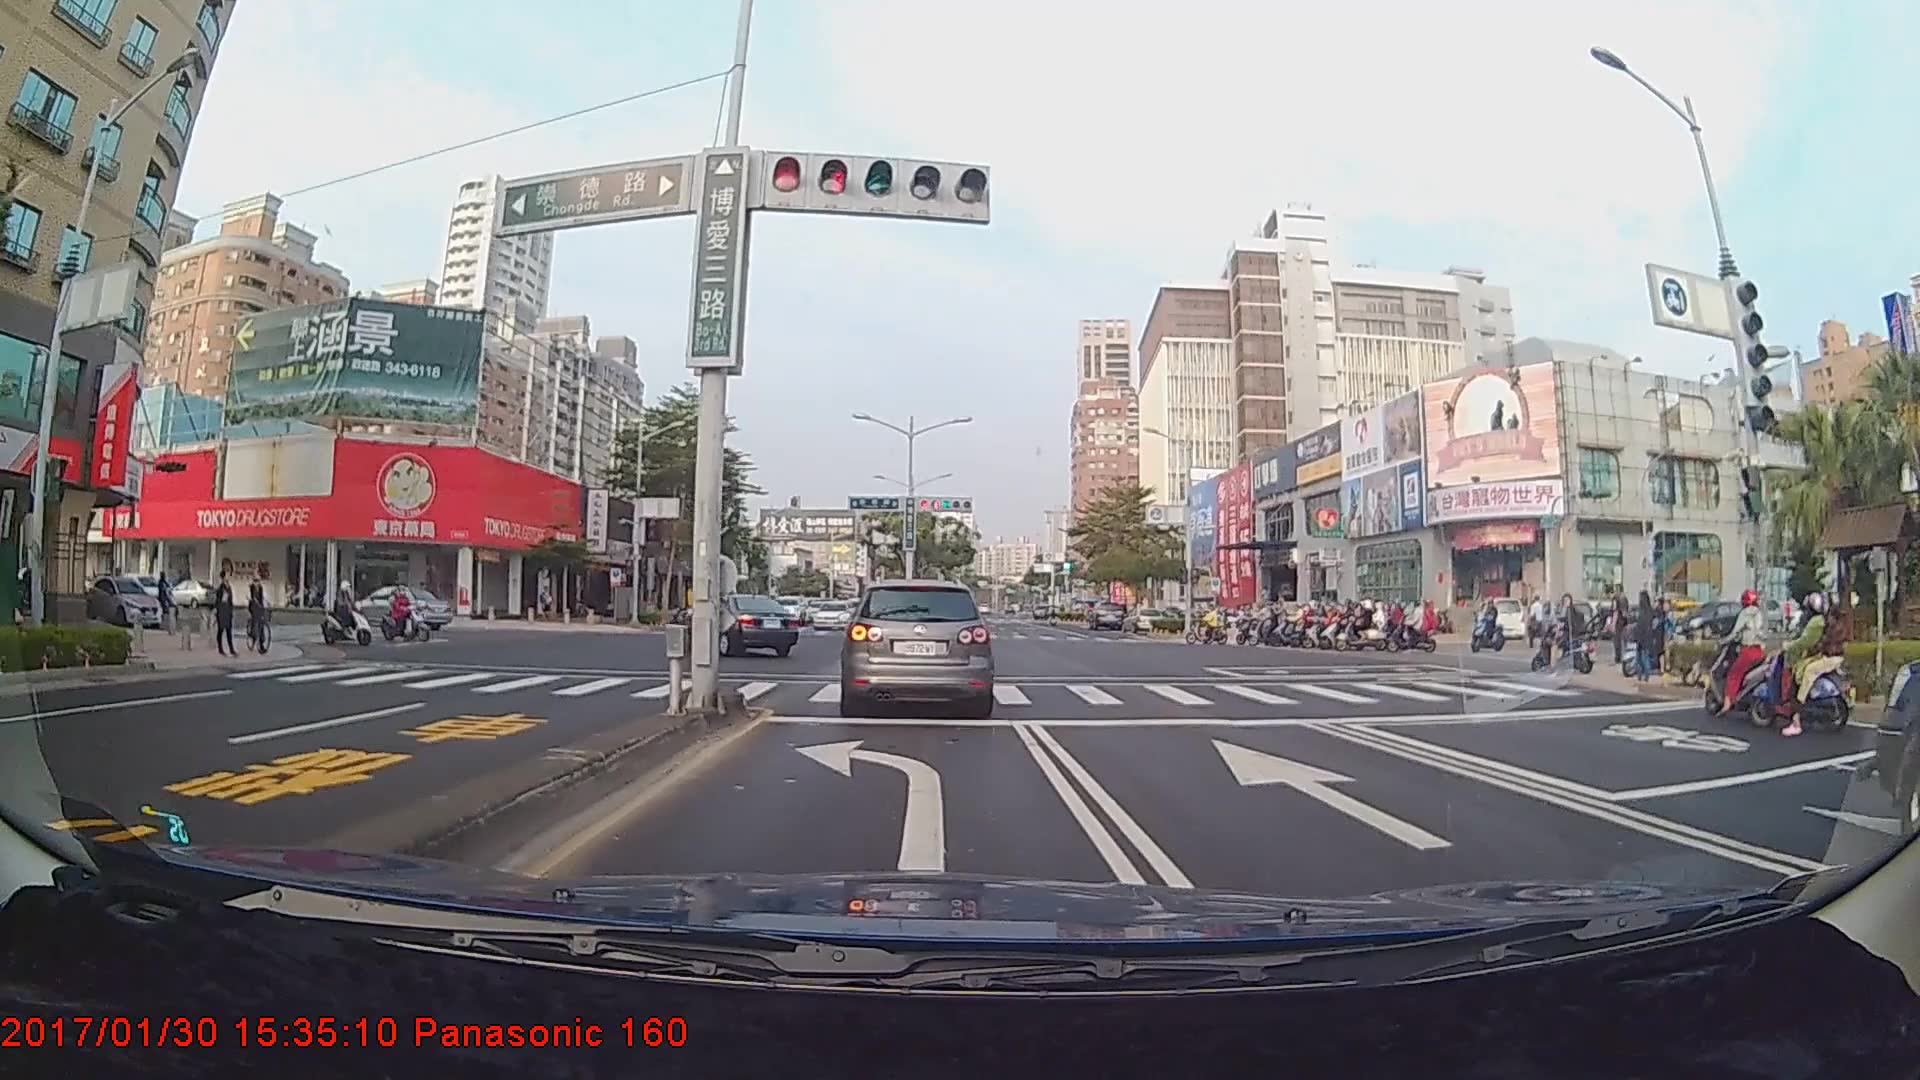pedestrian: (1629, 578, 1662, 690), (1613, 581, 1634, 666), (216, 572, 236, 661)
rider: (1749, 593, 1854, 741), (1709, 585, 1801, 726), (1529, 599, 1602, 672), (1619, 587, 1673, 681), (316, 577, 374, 649), (367, 578, 429, 639), (242, 566, 280, 652), (1391, 592, 1435, 654), (1461, 596, 1507, 651), (1340, 599, 1386, 651), (1228, 595, 1275, 641), (1183, 607, 1232, 647), (1313, 597, 1351, 643), (1293, 603, 1334, 644), (1303, 600, 1339, 644)
vehicle: (837, 568, 996, 705), (680, 593, 799, 658), (345, 583, 447, 630), (1087, 601, 1128, 630)
